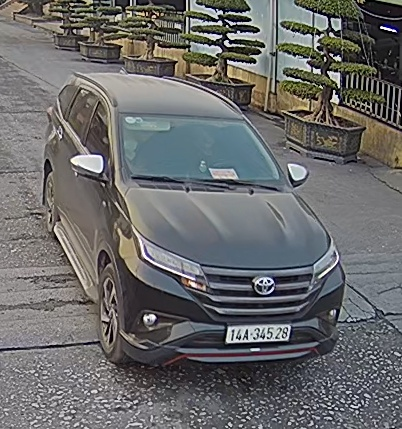vehicle plate: (224, 319, 297, 350)
